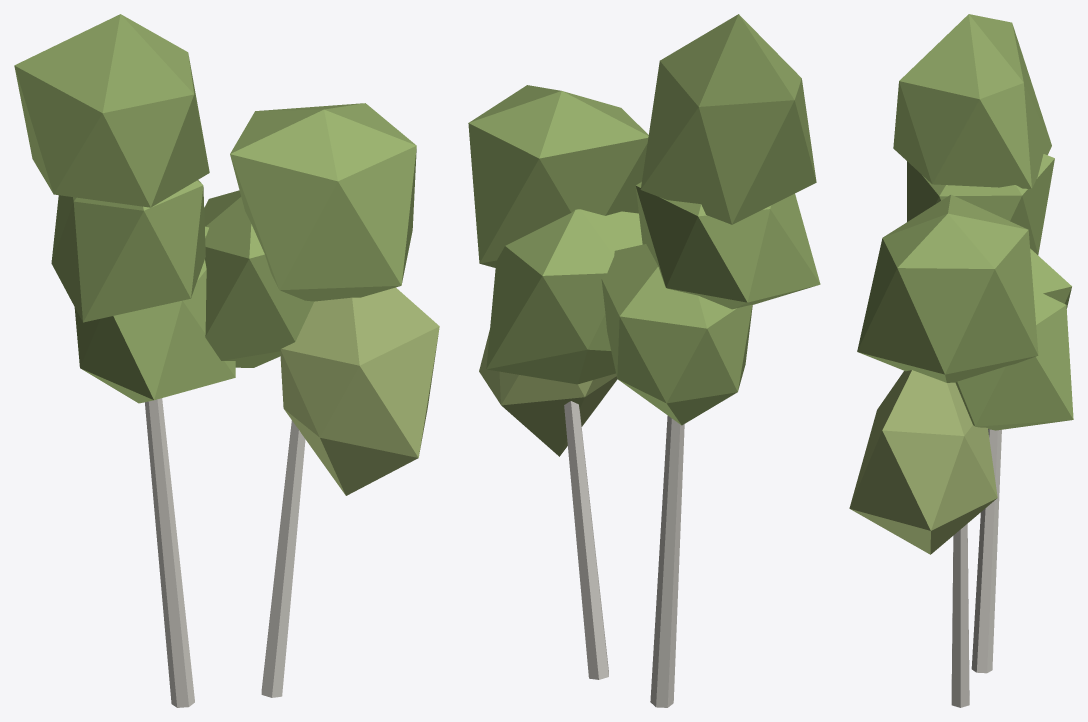
File: ScrubBirch.glb
The picture shows the model from 3 angles, left to right: view 1: azimuth 30°, elevation 25°; view 2: azimuth 150°, elevation 25°; view 3: azimuth 270°, elevation 25°; orthographic projection. The views are drawn at different scales.
Parts seen in each view (by area): view 1: Birch crown, Birch crown.003, Birch crown.002, Birch crown.004, Birch crown.005, Birch crown.001, Member.123, Member.122; view 2: Birch crown.003, Birch crown, Birch crown.001, Birch crown.005, Birch crown.004, Member.123, Birch crown.002, Member.122; view 3: Birch crown, Birch crown.003, Birch crown.002, Birch crown.001, Birch crown.004, Member.123, Member.122, Birch crown.005.
Boxes of the visible parts, bbox=[...] form: Birch crown: bbox=[230, 103, 416, 301]; Birch crown.003: bbox=[14, 14, 209, 207]; Birch crown.002: bbox=[280, 287, 439, 495]; Birch crown.004: bbox=[51, 180, 205, 322]; Birch crown.005: bbox=[74, 226, 235, 403]; Birch crown.001: bbox=[204, 190, 313, 367]; Member.123: bbox=[145, 398, 194, 707]; Member.122: bbox=[261, 420, 305, 697]; Birch crown.003: bbox=[640, 14, 816, 224]; Birch crown: bbox=[468, 85, 648, 267]; Birch crown.001: bbox=[486, 209, 642, 384]; Birch crown.005: bbox=[601, 244, 752, 425]; Birch crown.004: bbox=[635, 182, 820, 309]; Member.123: bbox=[650, 415, 684, 707]; Birch crown.002: bbox=[479, 330, 617, 456]; Member.122: bbox=[564, 401, 608, 679]; Birch crown: bbox=[857, 194, 1038, 382]; Birch crown.003: bbox=[893, 14, 1051, 188]; Birch crown.002: bbox=[849, 370, 997, 554]; Birch crown.001: bbox=[955, 289, 1073, 430]; Birch crown.004: bbox=[907, 154, 1054, 255]; Member.123: bbox=[971, 429, 1001, 673]; Member.122: bbox=[951, 524, 969, 707]; Birch crown.005: bbox=[1030, 248, 1071, 308].
Bounding box in the file's own units: 3.57 × 6.63 × 2.15.
